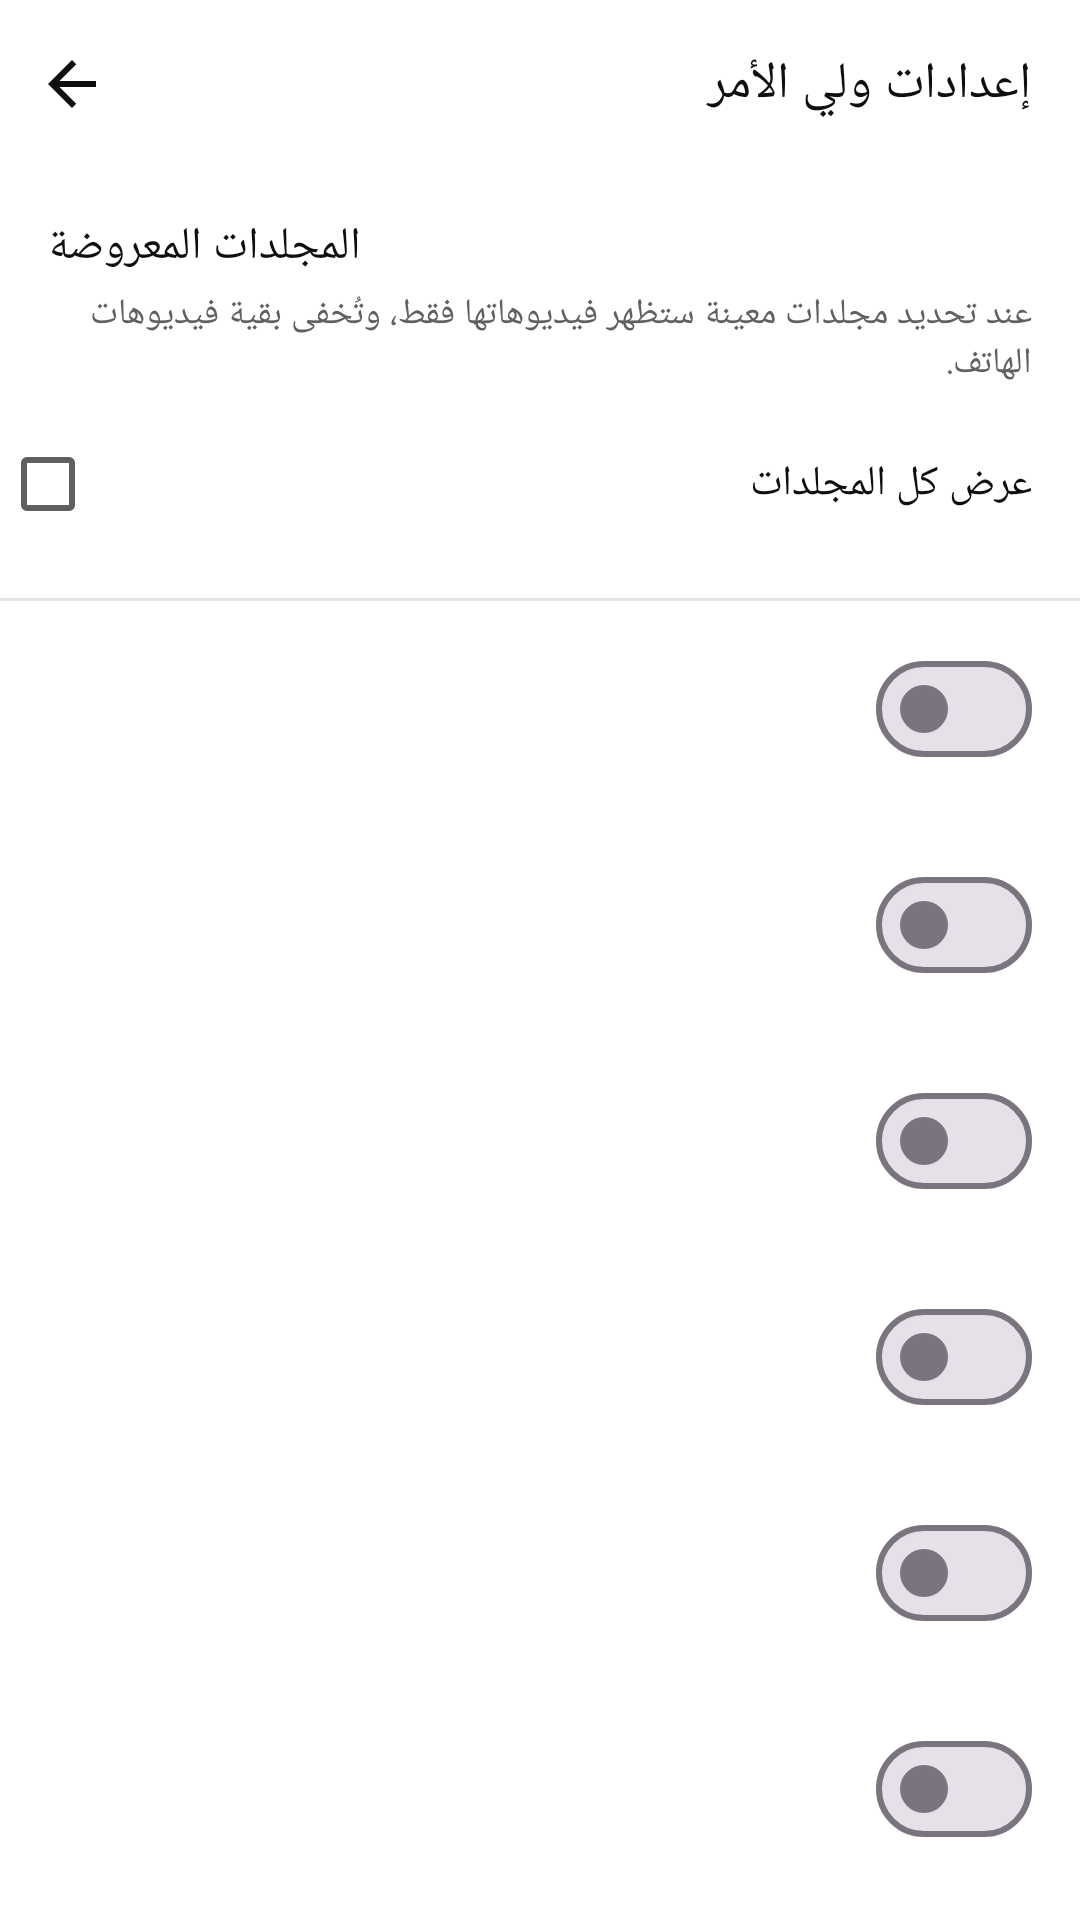

Icons on this 1080 × 1920 Android screen, each with the point to tap as (x,y):
رجوع: (72,84)
